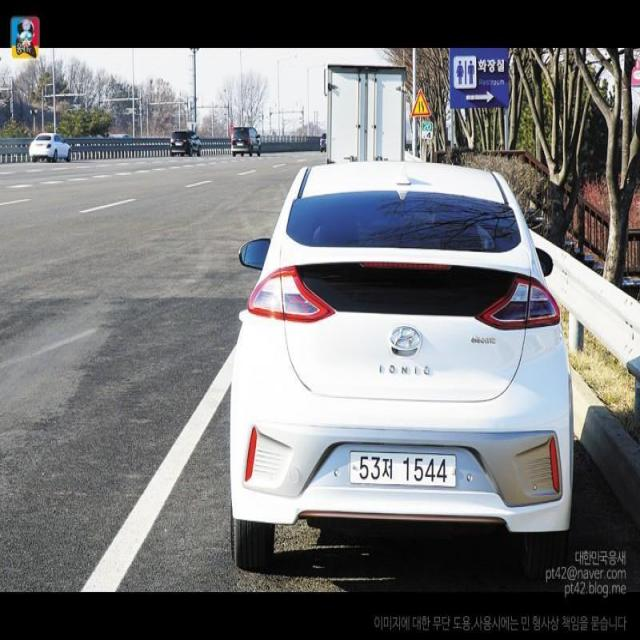car: (228, 151, 580, 574)
illegal_plate: (342, 443, 460, 496)
